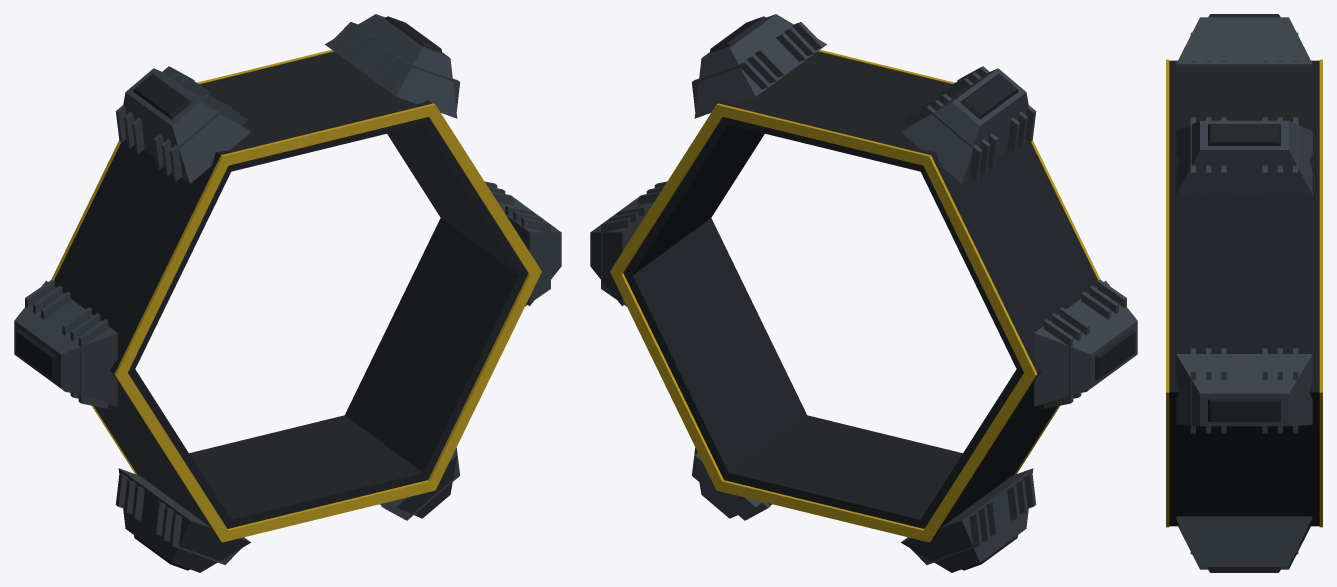
The model's file is b12_field.obj.
3 renders of one model, left to right at view 1: azimuth 30°, elevation 25°; view 2: azimuth 150°, elevation 25°; view 3: azimuth 270°, elevation 25°, orthographic. The views are drawn at different scales.
Visible parts, largest first — view 1: b12_field; view 2: b12_field; view 3: b12_field.
Boxes of the visible parts, x1,y1,x2,y2 form: b12_field: (14, 14, 561, 572); b12_field: (590, 14, 1137, 572); b12_field: (1166, 14, 1322, 572).
Size of the model in its own units: 3.28 by 2.91 by 0.92.
